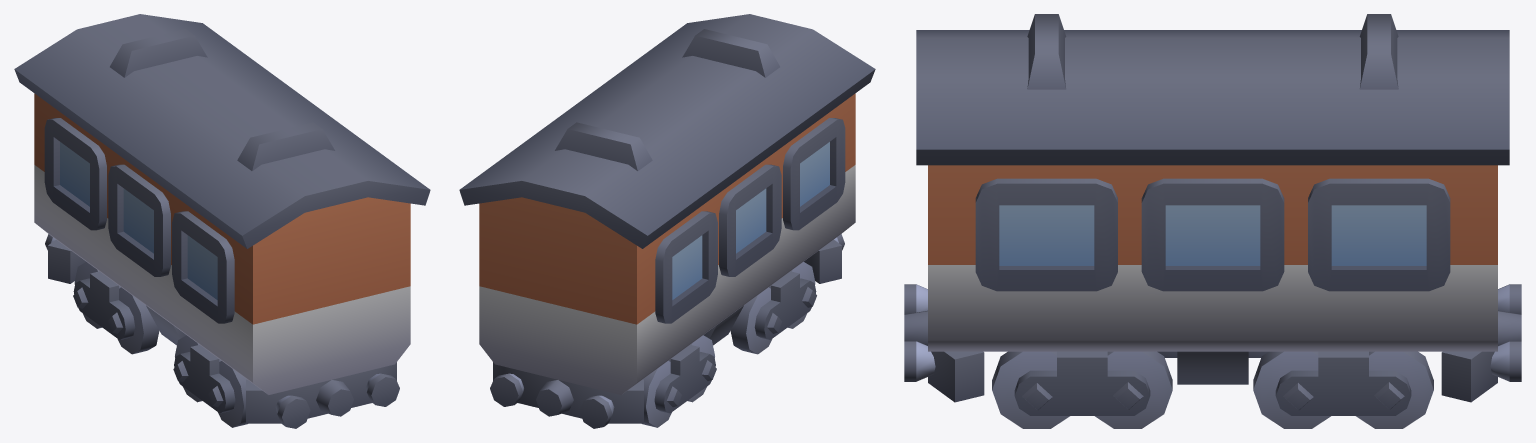
The model's file is train-locomotive-passenger-a.glb.
3 views of the same model, side by side, from view 1: azimuth 30°, elevation 25°; view 2: azimuth 150°, elevation 25°; view 3: azimuth 270°, elevation 25° (orthographic). The views are drawn at different scales.
Visible parts, largest first — view 1: train-locomotive-passenger-a, wheels-back, wheels-front; view 2: train-locomotive-passenger-a, wheels-front, wheels-back; view 3: train-locomotive-passenger-a, wheels-front, wheels-back.
Boxes of the visible parts, bbox=[...] form: train-locomotive-passenger-a: bbox=[14, 14, 430, 428]; wheels-back: bbox=[73, 262, 159, 354]; wheels-front: bbox=[173, 335, 247, 427]; train-locomotive-passenger-a: bbox=[459, 14, 875, 428]; wheels-front: bbox=[730, 262, 816, 354]; wheels-back: bbox=[642, 335, 716, 427]; train-locomotive-passenger-a: bbox=[904, 14, 1521, 402]; wheels-front: bbox=[992, 351, 1172, 428]; wheels-back: bbox=[1253, 351, 1433, 428].
Bounding box in the file's own units: 1.19 × 1.65 × 2.6.
